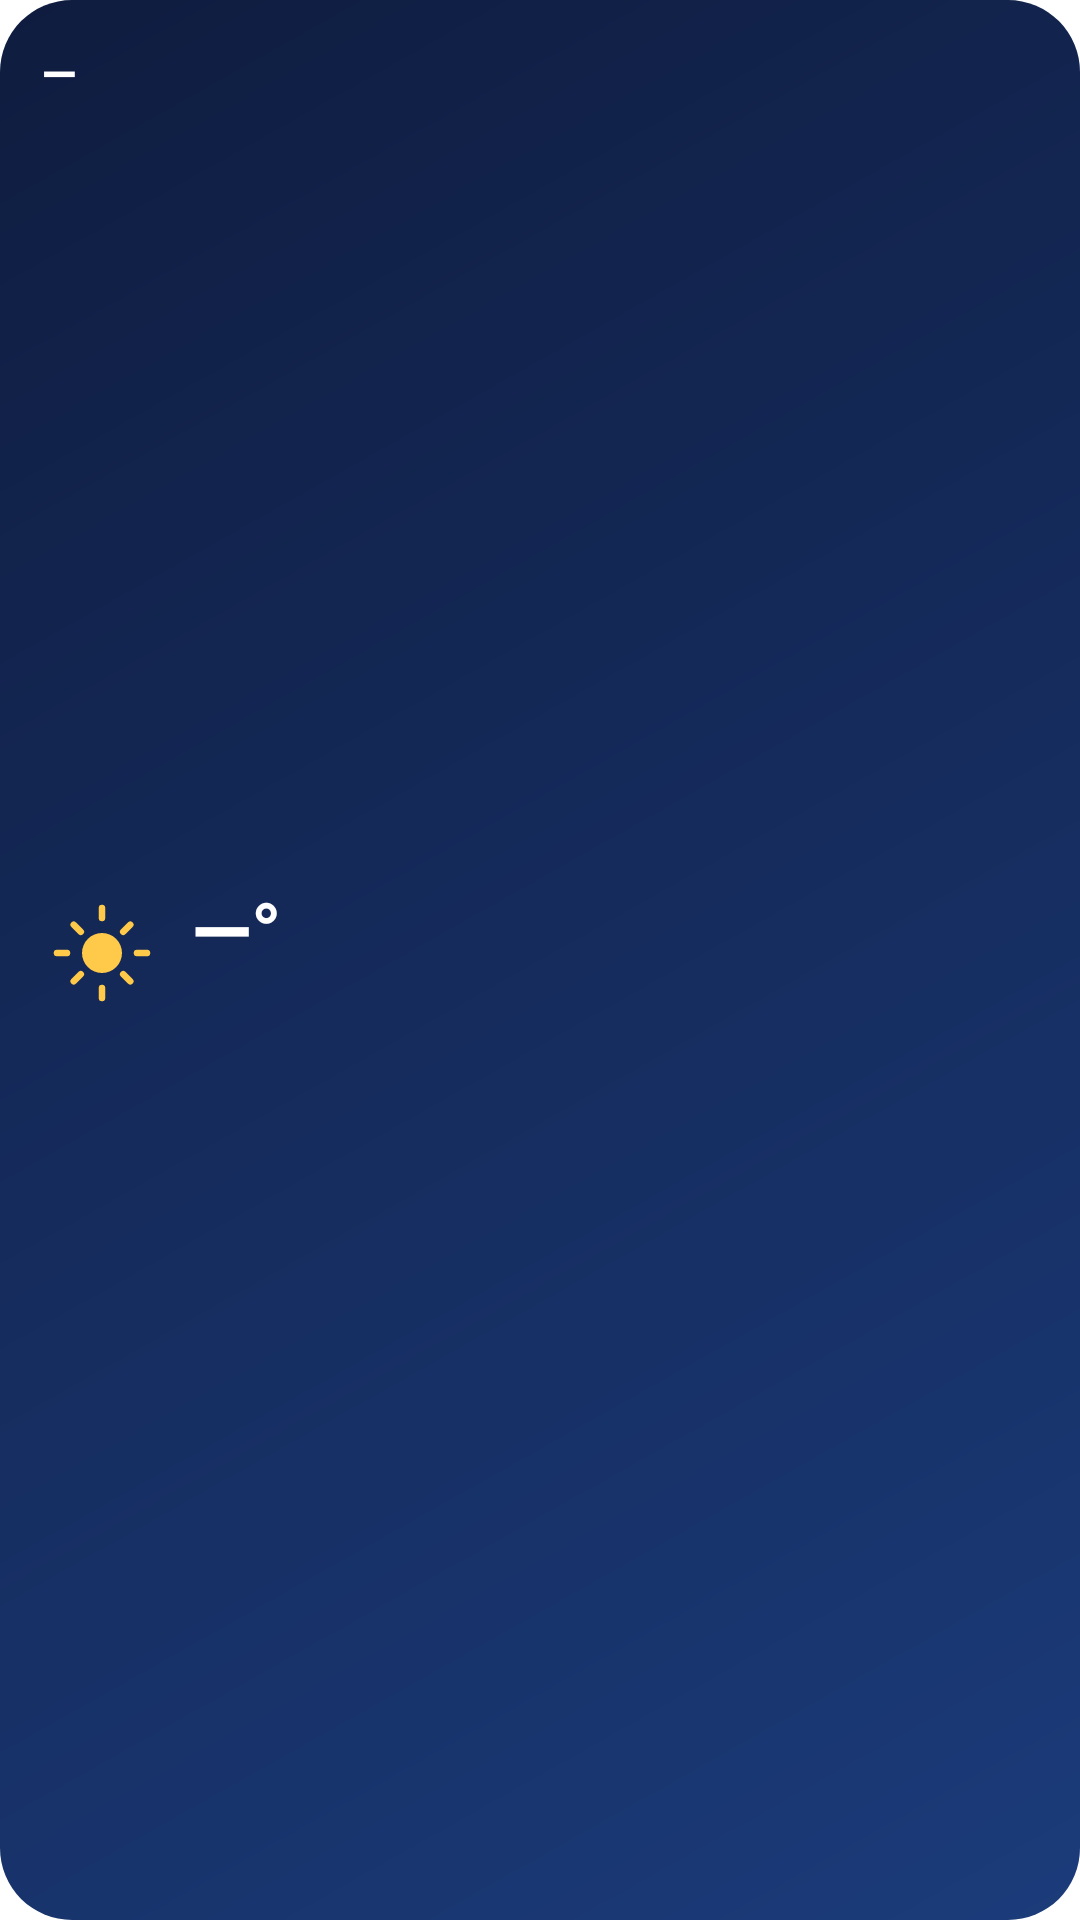

Icons on this 1080x1920 Android screen, each with its box as detection(x1, y1, x2, y2):
widget clear day: detection(53, 904, 151, 1002)
